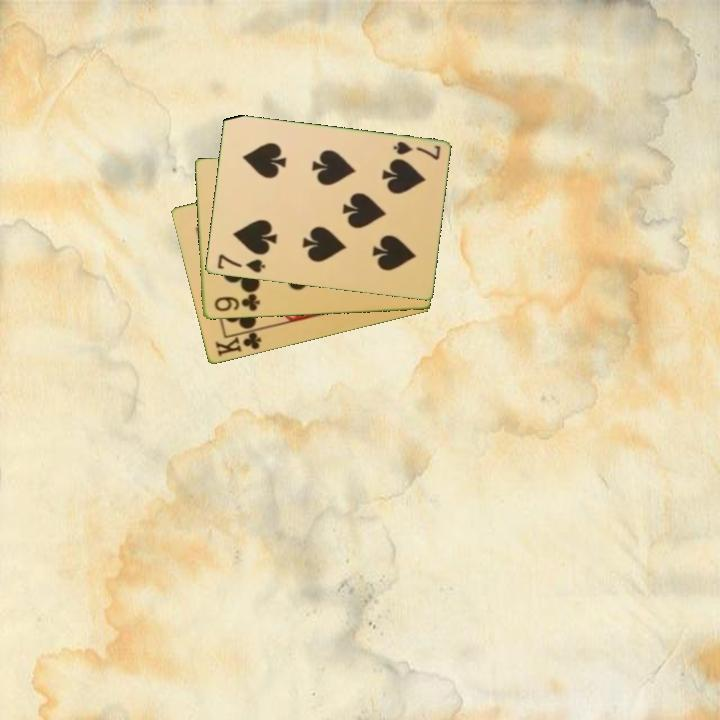7s: (213, 251, 268, 276), (390, 138, 443, 163)
9c: (210, 291, 263, 315)
Kc: (211, 326, 264, 360)
